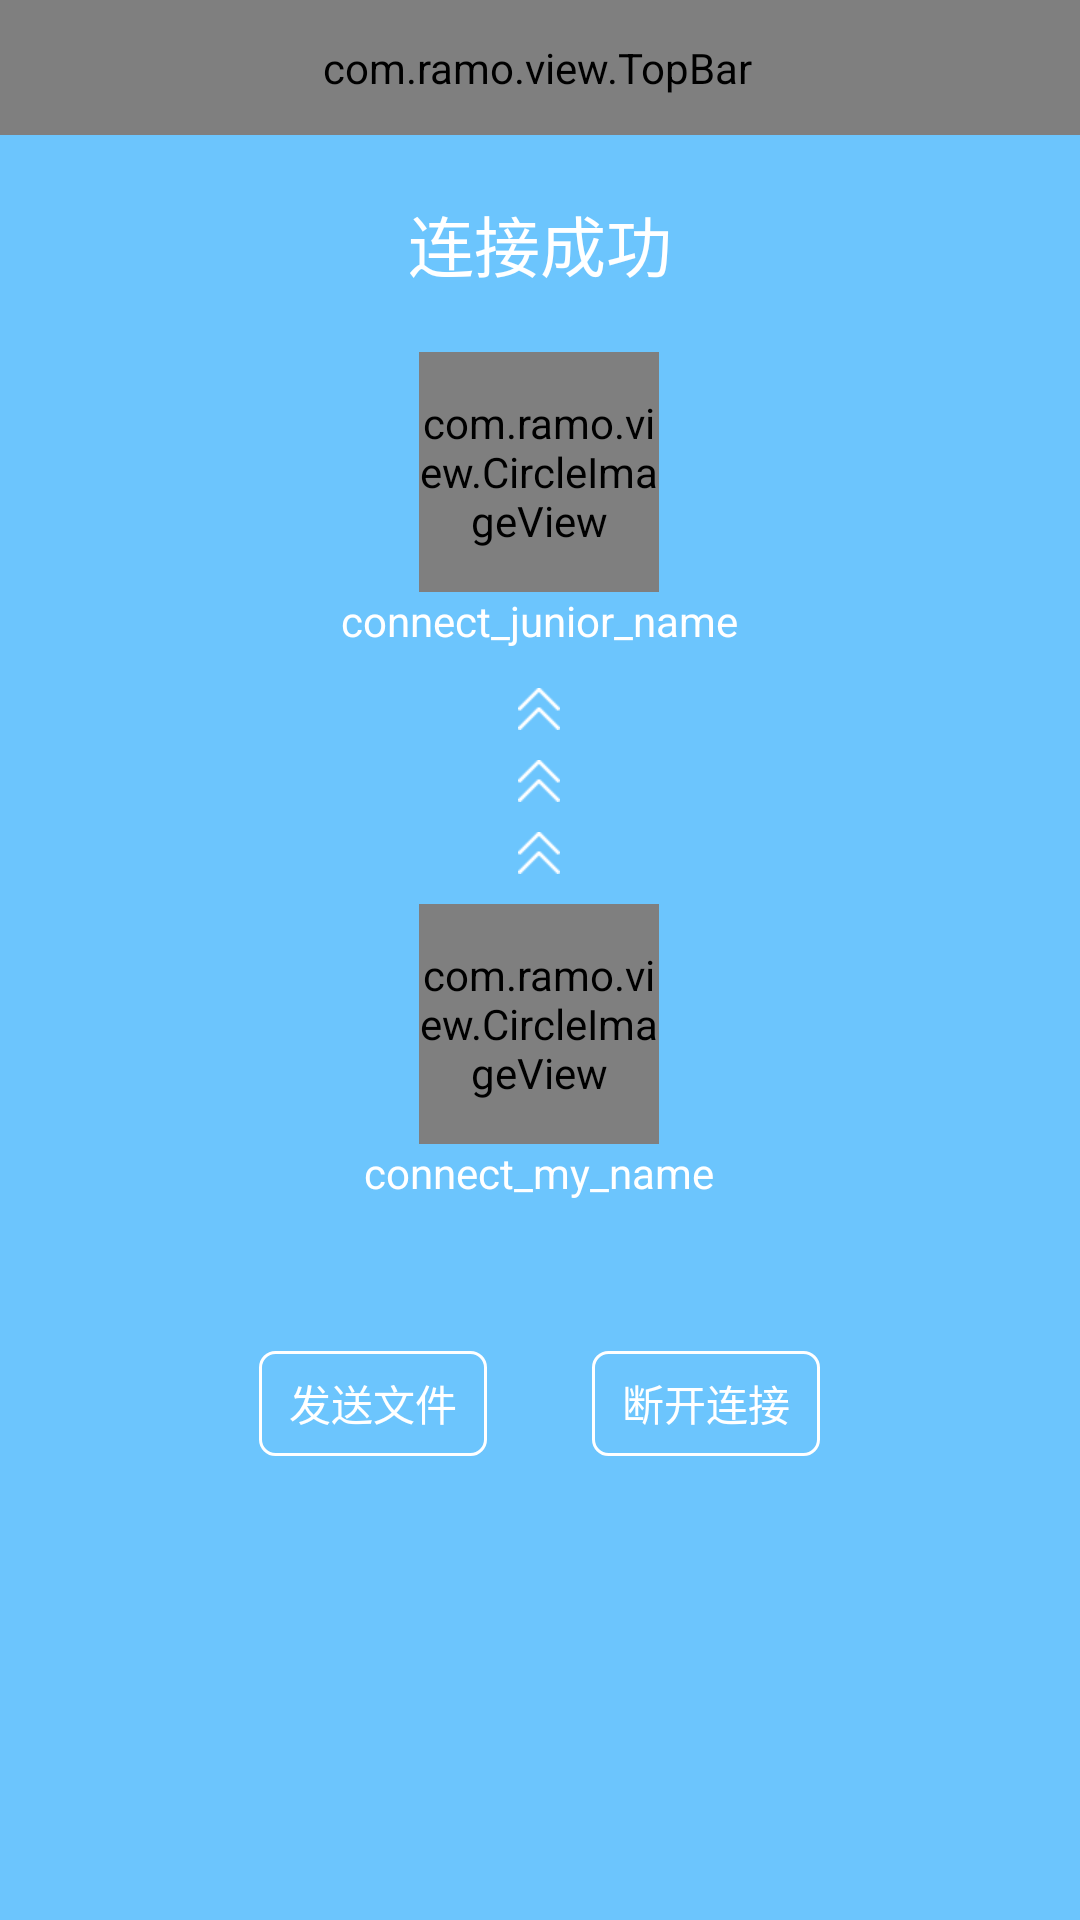

Point at icon controls on the screen. Image size 1080 × 1920, points as point (x, y).
arrow: point (539, 709), point (539, 781), point (539, 853)
